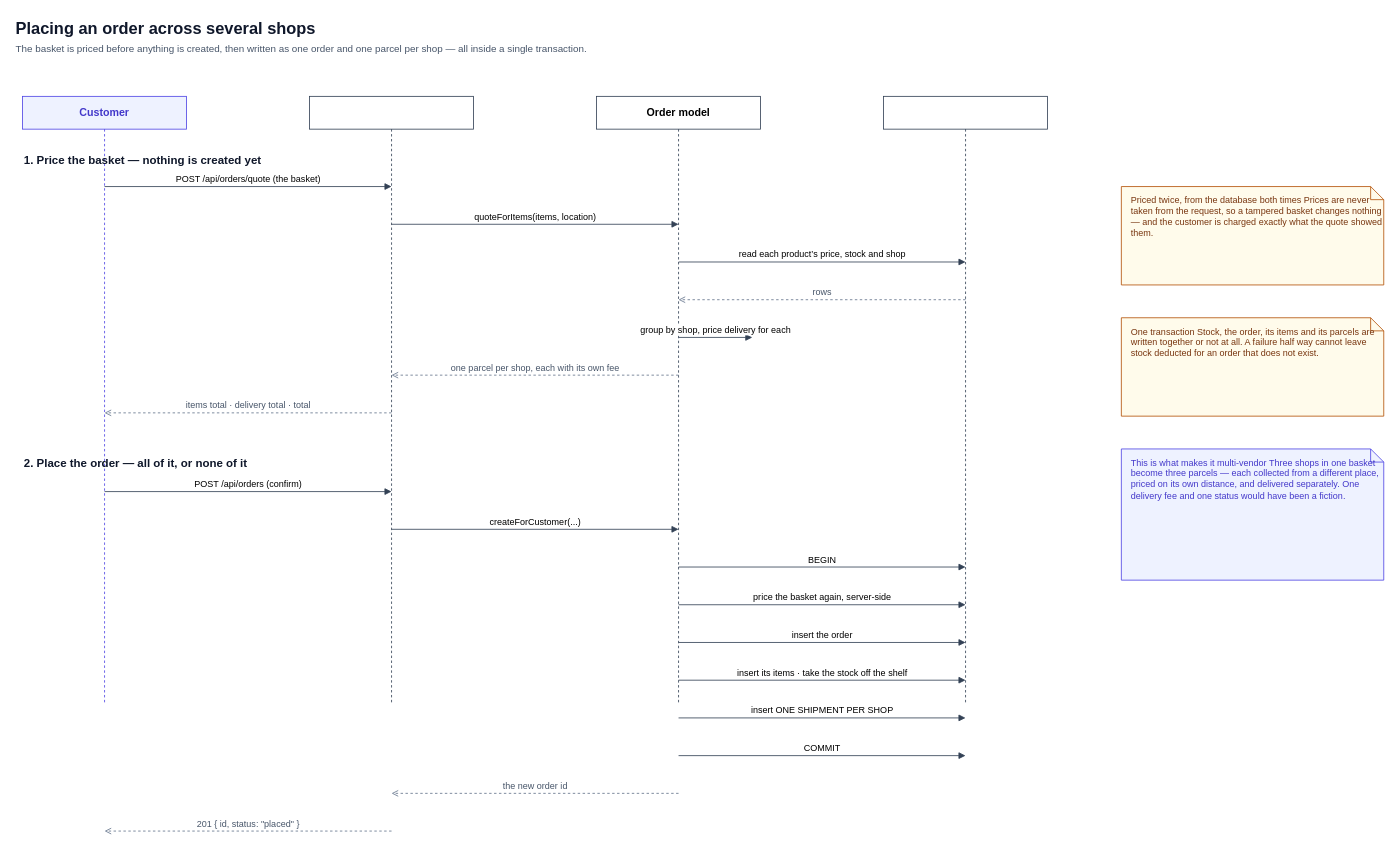
This 1398x852 diagram has some shape labels left out. The box of each missing label's shape, as (x1, y1, x2, y2) in pixels:
Express API: (309, 96, 474, 703)
MySQL: (883, 96, 1048, 703)
